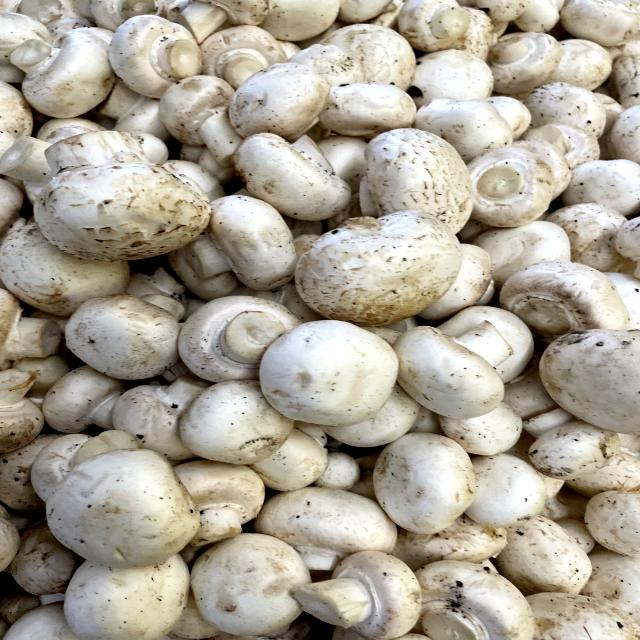mushroom: (26, 121, 218, 268), (380, 304, 528, 427), (348, 426, 496, 538), (170, 280, 310, 394), (224, 121, 369, 227), (277, 539, 427, 640), (56, 284, 195, 389), (454, 142, 566, 235), (9, 28, 120, 117), (108, 12, 205, 99)
